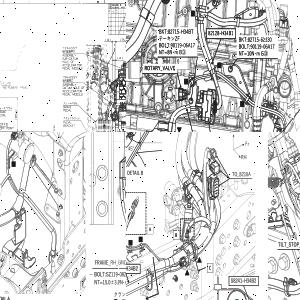PartNumber: (250, 43, 275, 51), (170, 41, 195, 49), (230, 277, 257, 284), (168, 28, 194, 35), (208, 30, 234, 37), (248, 37, 274, 43), (105, 271, 126, 277), (126, 265, 138, 272)
